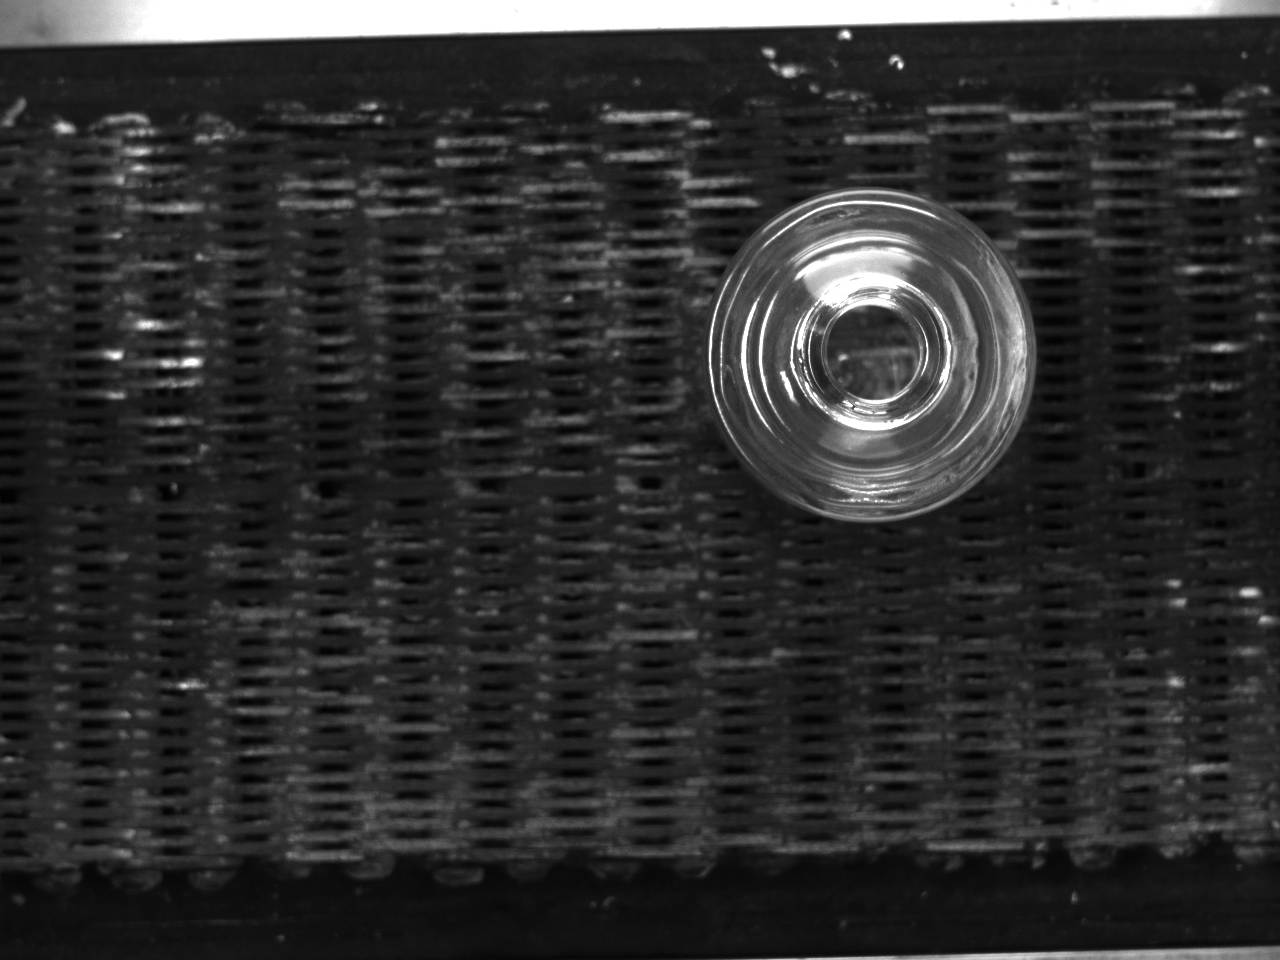bottleneck: (796, 273, 953, 433)
